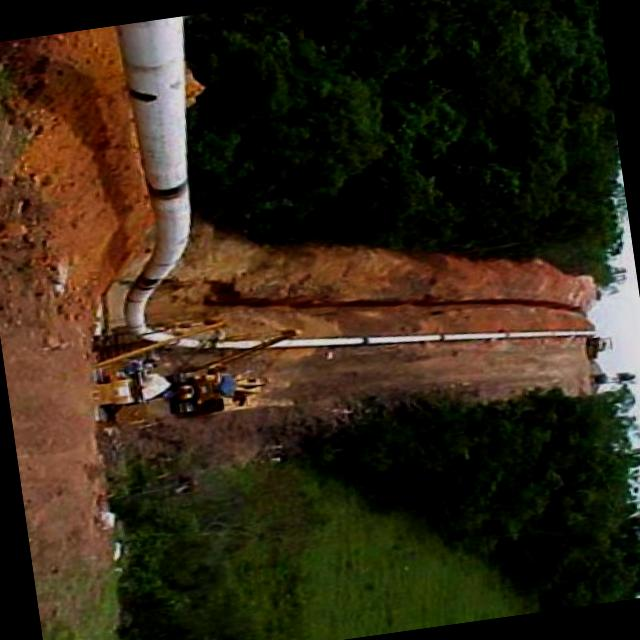gas: (120, 19, 598, 352)
